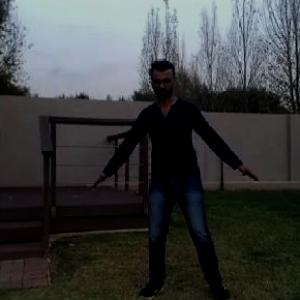land: (100, 57, 269, 299)
